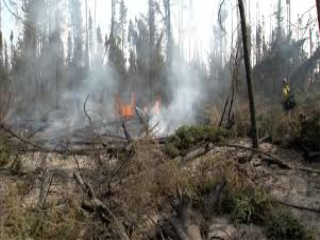fire: (108, 89, 149, 121)
smoke: (149, 35, 206, 142)
